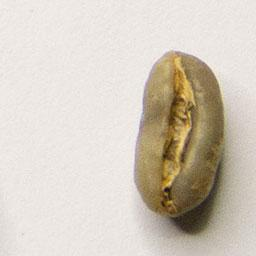longberry: (130, 46, 227, 220)
